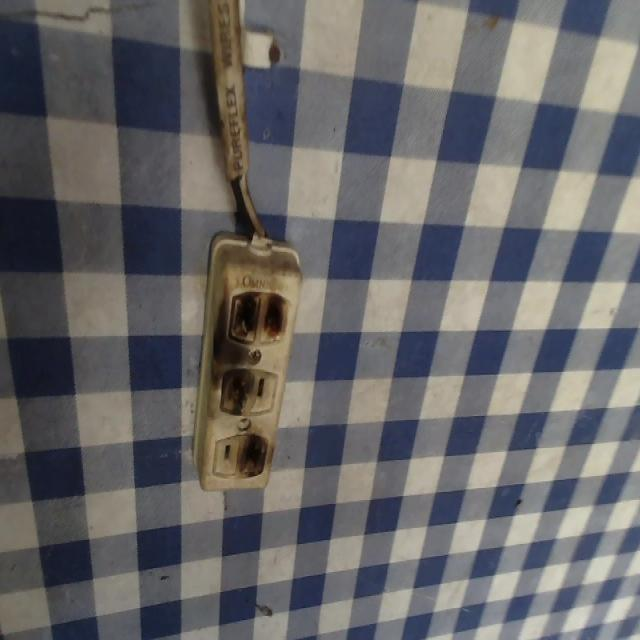-: (228, 287, 290, 348), (216, 361, 253, 423), (241, 431, 266, 481)
